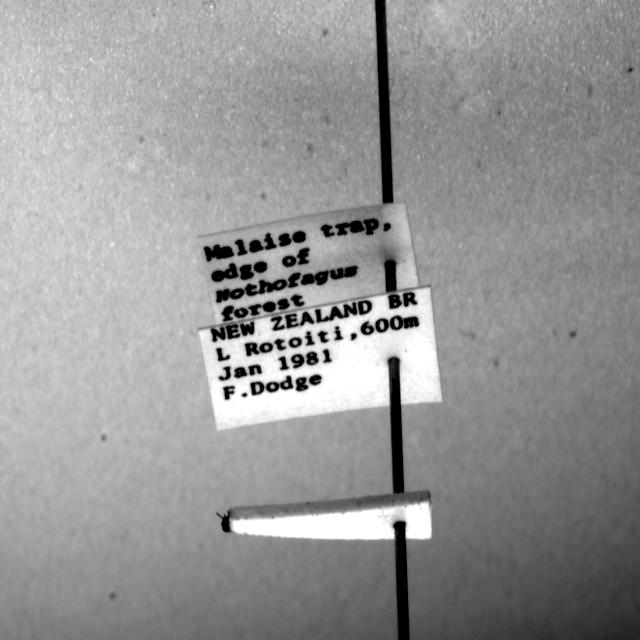typed_label: (199, 287, 442, 429), (199, 202, 419, 324)
